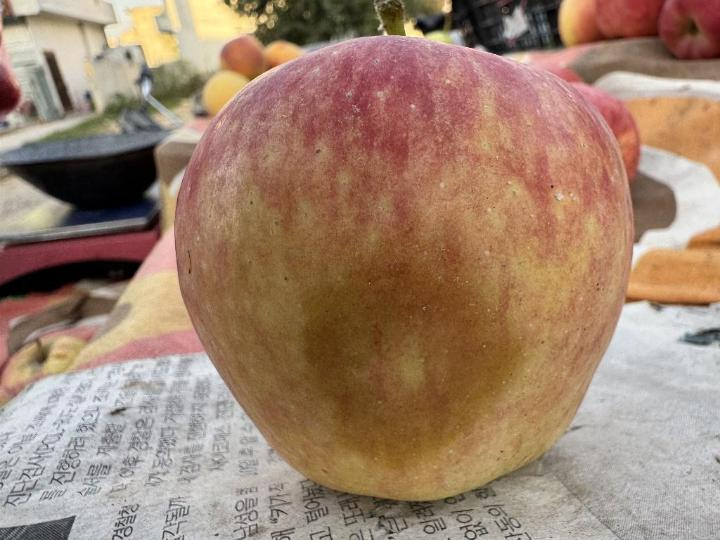apple: (175, 36, 633, 500)
bruise_discoloration: (311, 268, 525, 455)
